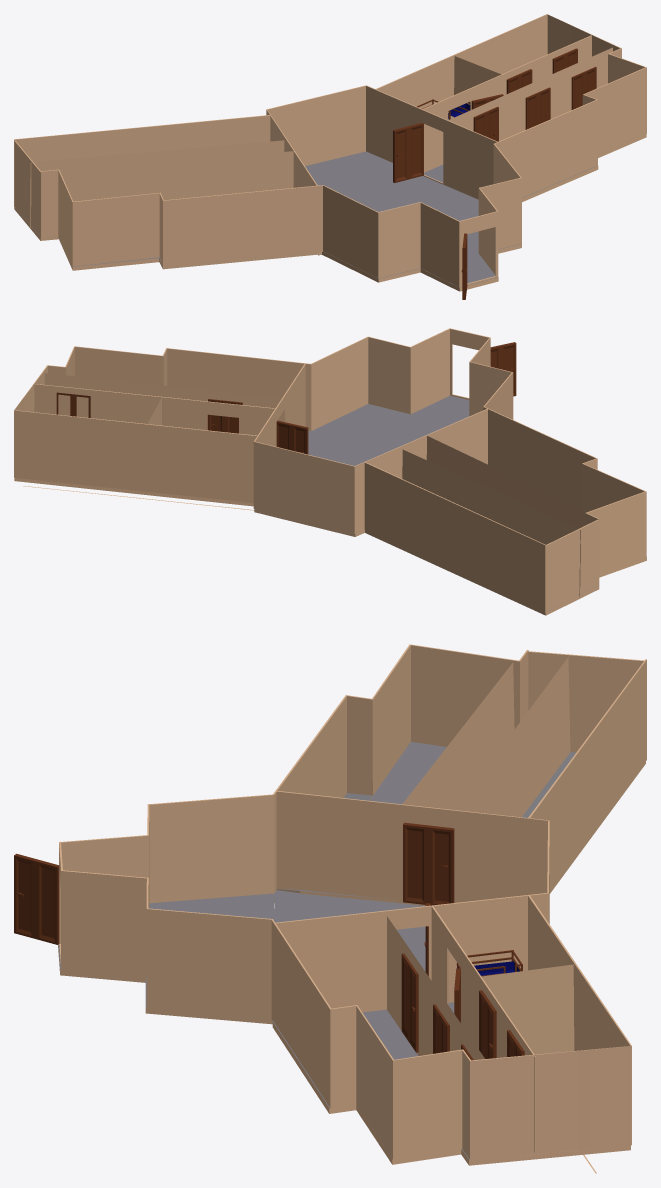
Rendered from exterior.glb.
The picture shows the model from 3 angles, top to bottom: view 1: azimuth 30°, elevation 25°; view 2: azimuth 150°, elevation 25°; view 3: azimuth 270°, elevation 25°; orthographic projection. The views are drawn at different scales.
Parts seen in each view (by area): view 1: building, Door, Door.005, Door.008, Door.004; view 2: building, Door, Door.003, Door.004; view 3: building, Door.002, Door.003, Door.004, Door.006, Bed 3.
Part boxes in pixels (x1=…): building: x1=14, y1=14, x2=646, y2=291; Door: x1=393, y1=122, x2=423, y2=182; Door.005: x1=525, y1=87, x2=550, y2=129; Door.008: x1=571, y1=66, x2=596, y2=109; Door.004: x1=473, y1=106, x2=498, y2=141; building: x1=14, y1=328, x2=646, y2=615; Door: x1=276, y1=420, x2=308, y2=454; Door.003: x1=490, y1=342, x2=516, y2=396; Door.004: x1=208, y1=399, x2=242, y2=433; building: x1=58, y1=644, x2=646, y2=1173; Door.002: x1=403, y1=822, x2=454, y2=905; Door.003: x1=14, y1=853, x2=59, y2=944; Door.004: x1=401, y1=953, x2=418, y2=1052; Door.006: x1=479, y1=990, x2=496, y2=1058; Bed 3: x1=456, y1=950, x2=522, y2=976.
Bounding box in the file's own units: 55.28 × 7.76 × 35.45.
